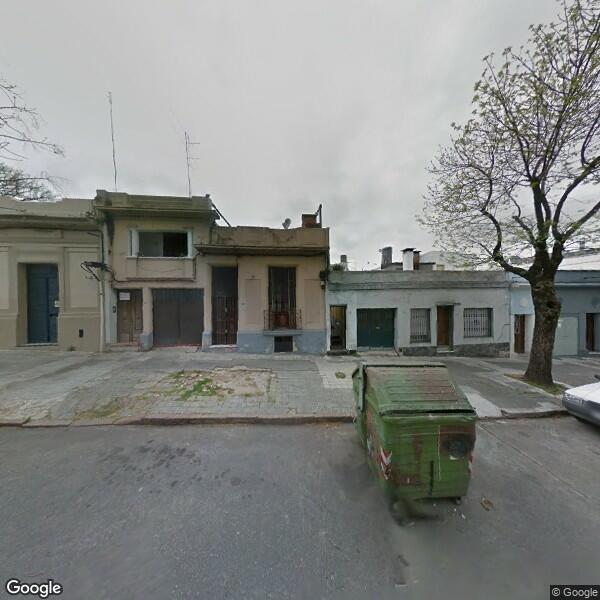Trash: (352, 358, 478, 507)
